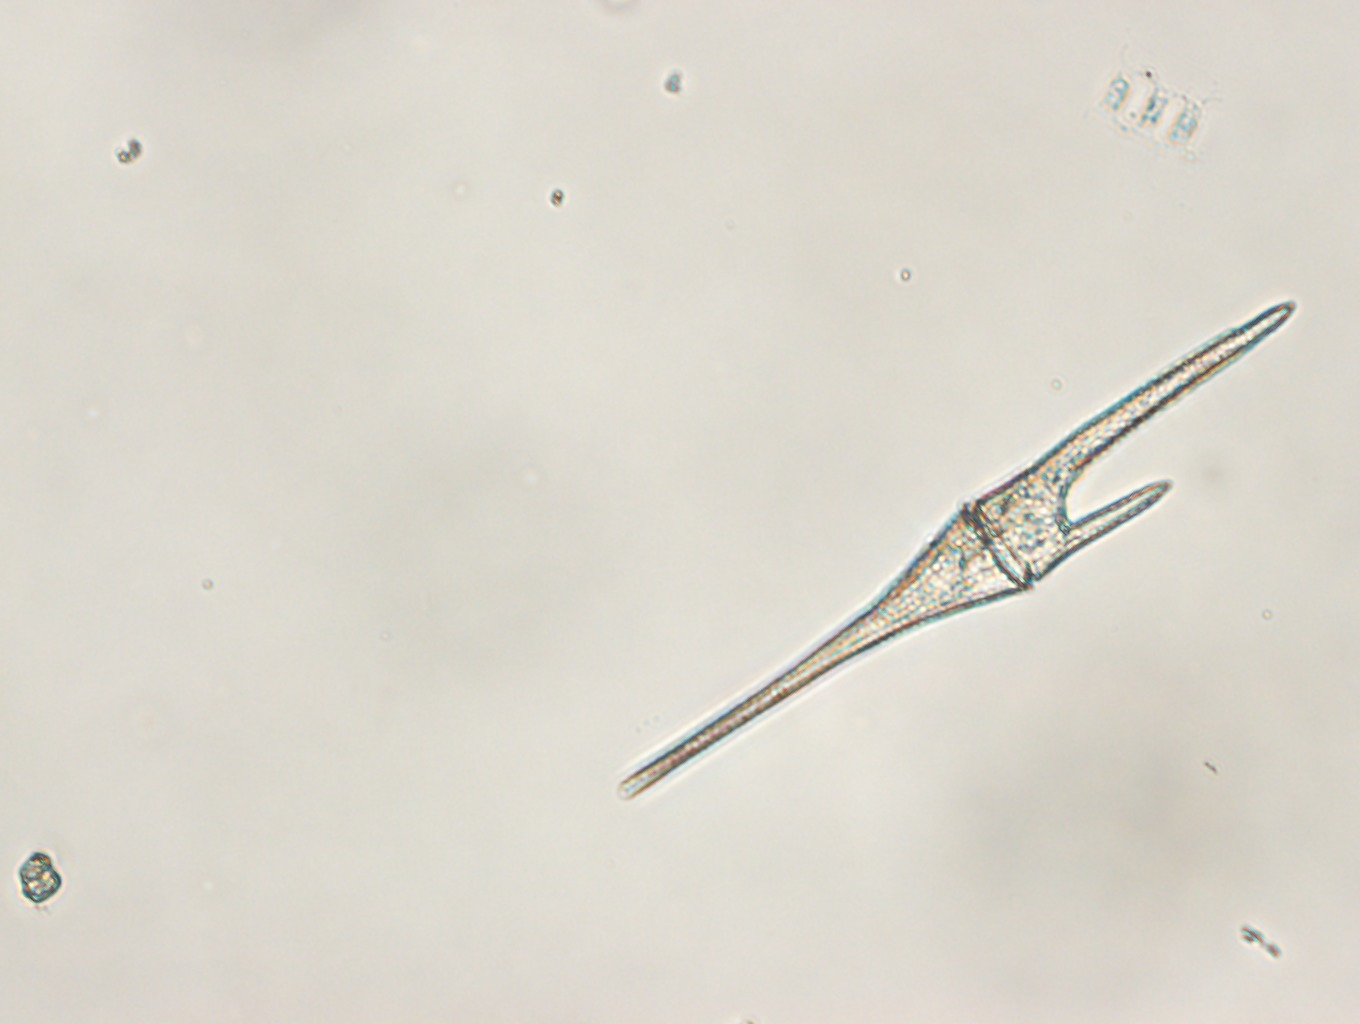ceratium furca: (616, 301, 1299, 791)
